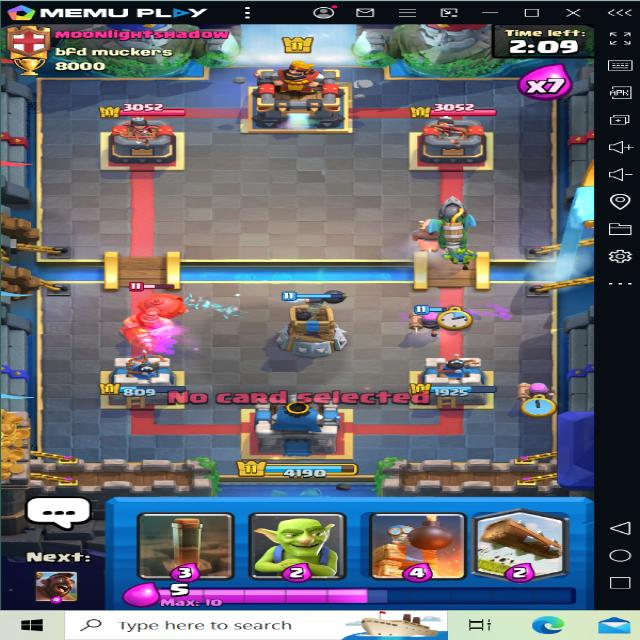Mightyminer: (114, 284, 190, 354)
